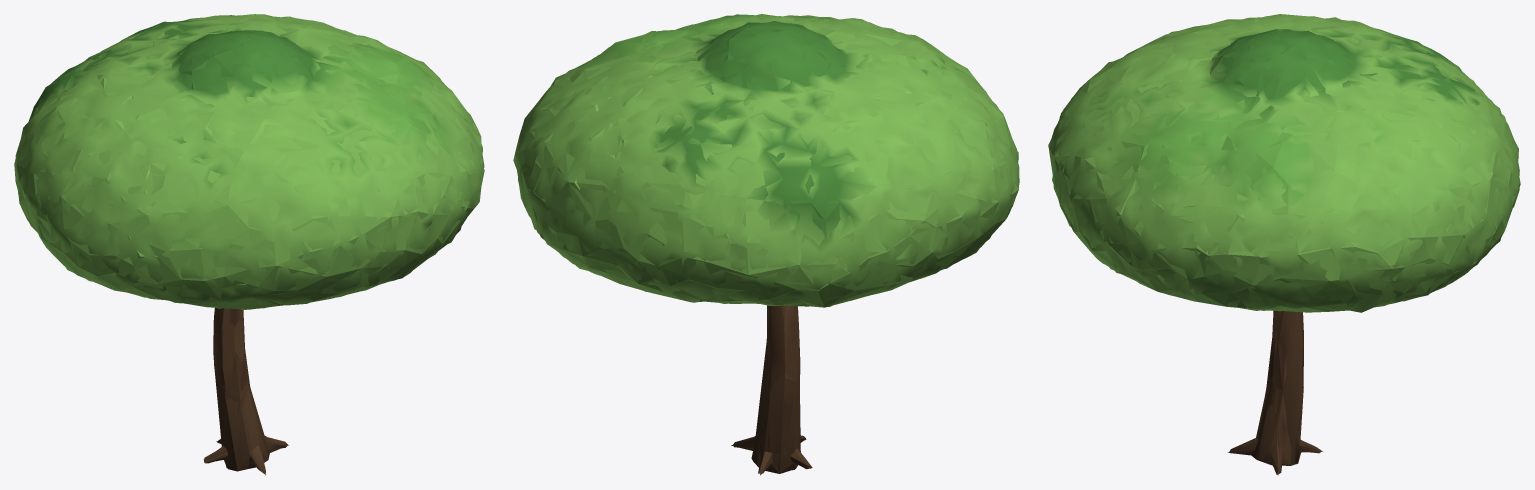
File: broadleaf_mature_large_spreading.glb
3 renders of one model, left to right at view 1: azimuth 30°, elevation 25°; view 2: azimuth 150°, elevation 25°; view 3: azimuth 270°, elevation 25°, orthographic. The views are drawn at different scales.
Visible parts, largest first — view 1: broadleaf_mature_large_spreading_LOD1, broadleaf_mature_large_spreading_LOD2; view 2: broadleaf_mature_large_spreading_LOD1, broadleaf_mature_large_spreading_LOD2; view 3: broadleaf_mature_large_spreading_LOD1, broadleaf_mature_large_spreading_LOD2.
Part boxes in pixels (box(x1,y1,x2,y2)): broadleaf_mature_large_spreading_LOD1: box(14, 14, 484, 474); broadleaf_mature_large_spreading_LOD2: box(15, 14, 482, 475); broadleaf_mature_large_spreading_LOD1: box(513, 14, 1019, 473); broadleaf_mature_large_spreading_LOD2: box(514, 16, 1019, 475); broadleaf_mature_large_spreading_LOD1: box(1048, 14, 1519, 474); broadleaf_mature_large_spreading_LOD2: box(1049, 15, 1520, 475).
Size of the model in its own units: 7.22 by 6.94 by 6.99.
